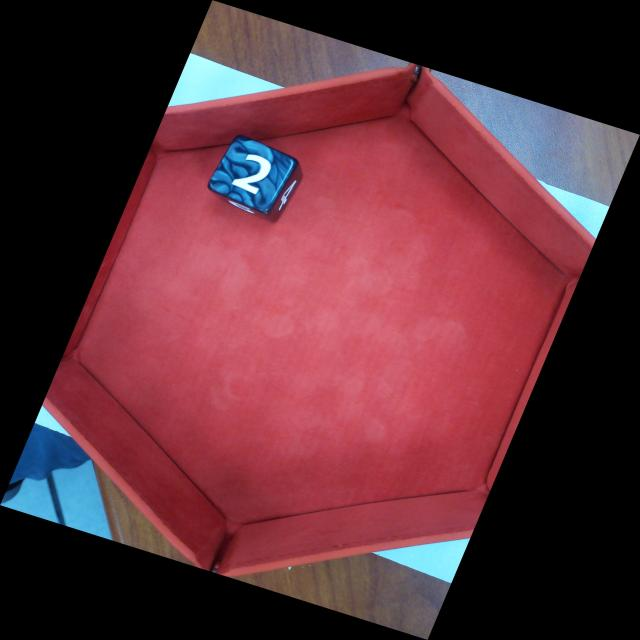dice: (205, 132, 300, 215)
